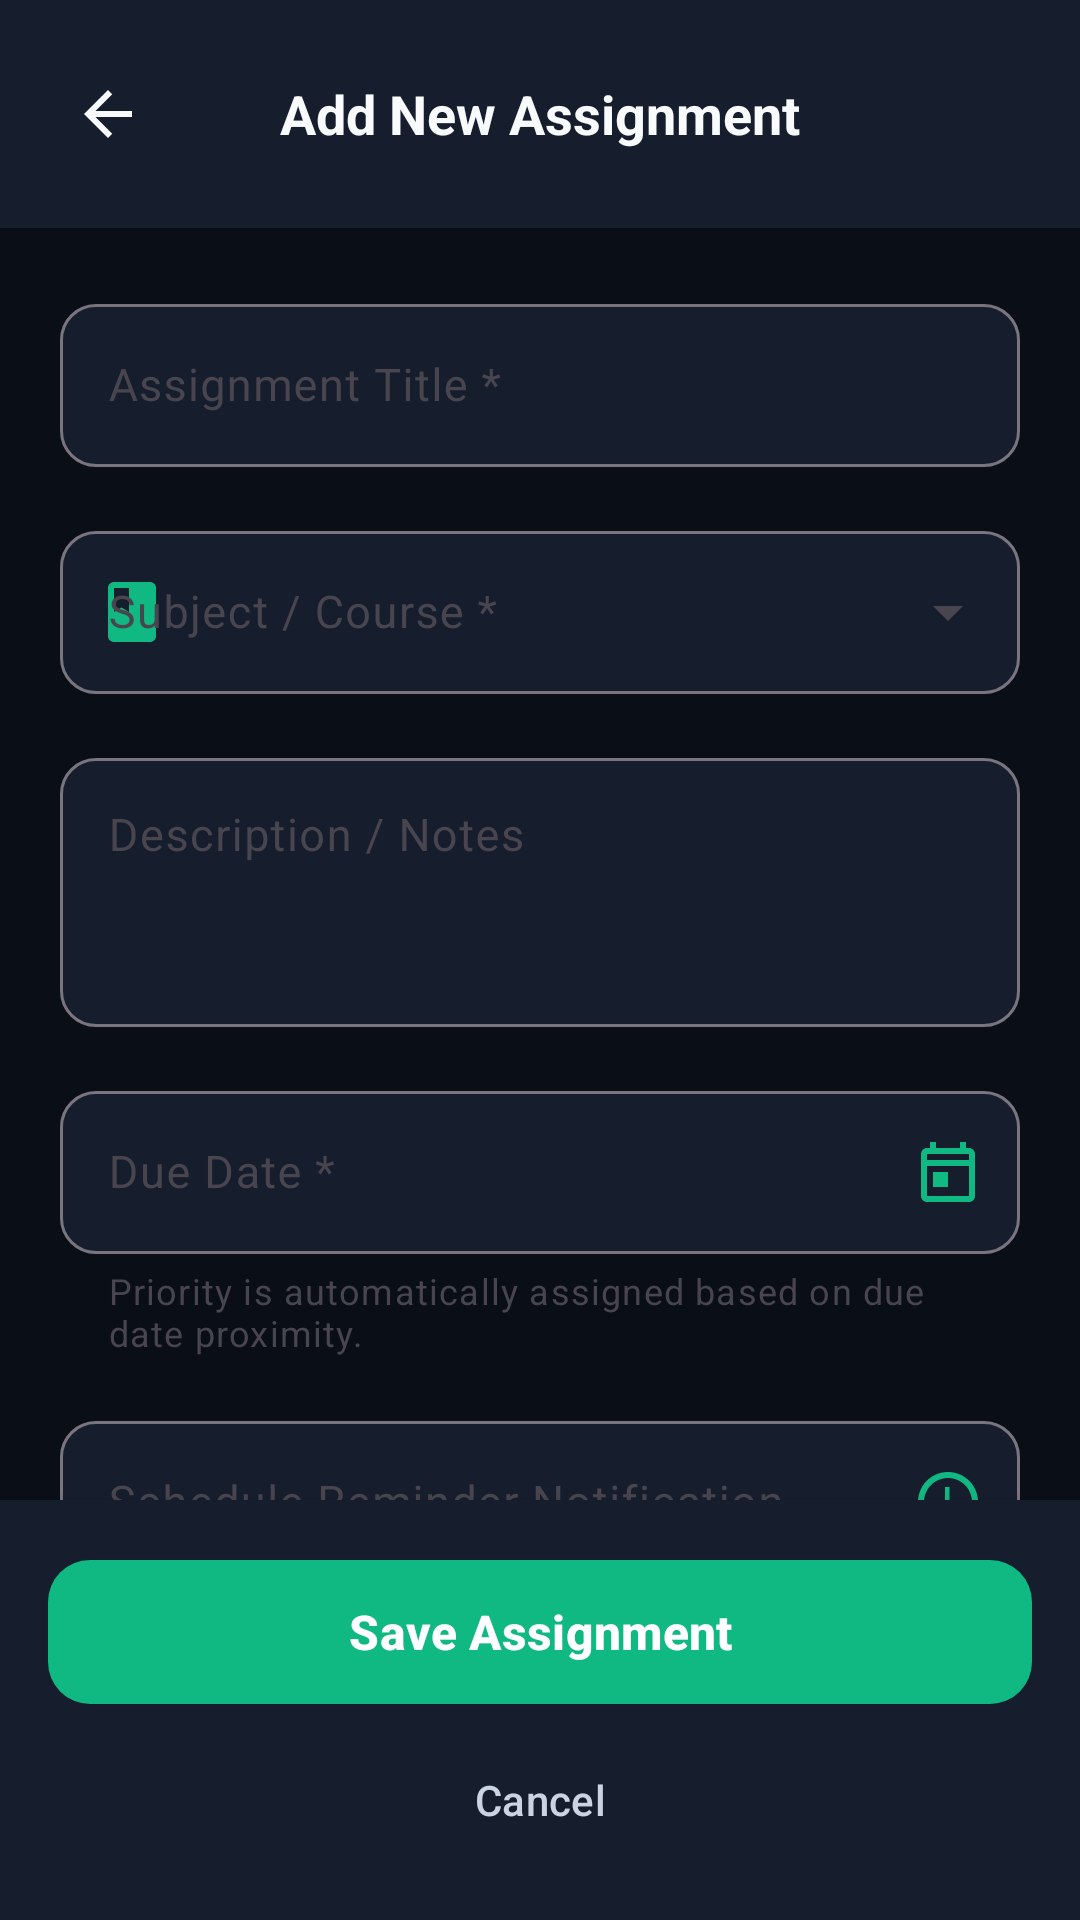

Named icons in this screenshot (1080px x 1920px) and their bounding boxes, (x1, y1, x2, y2):
Back: (84, 90, 132, 138)
